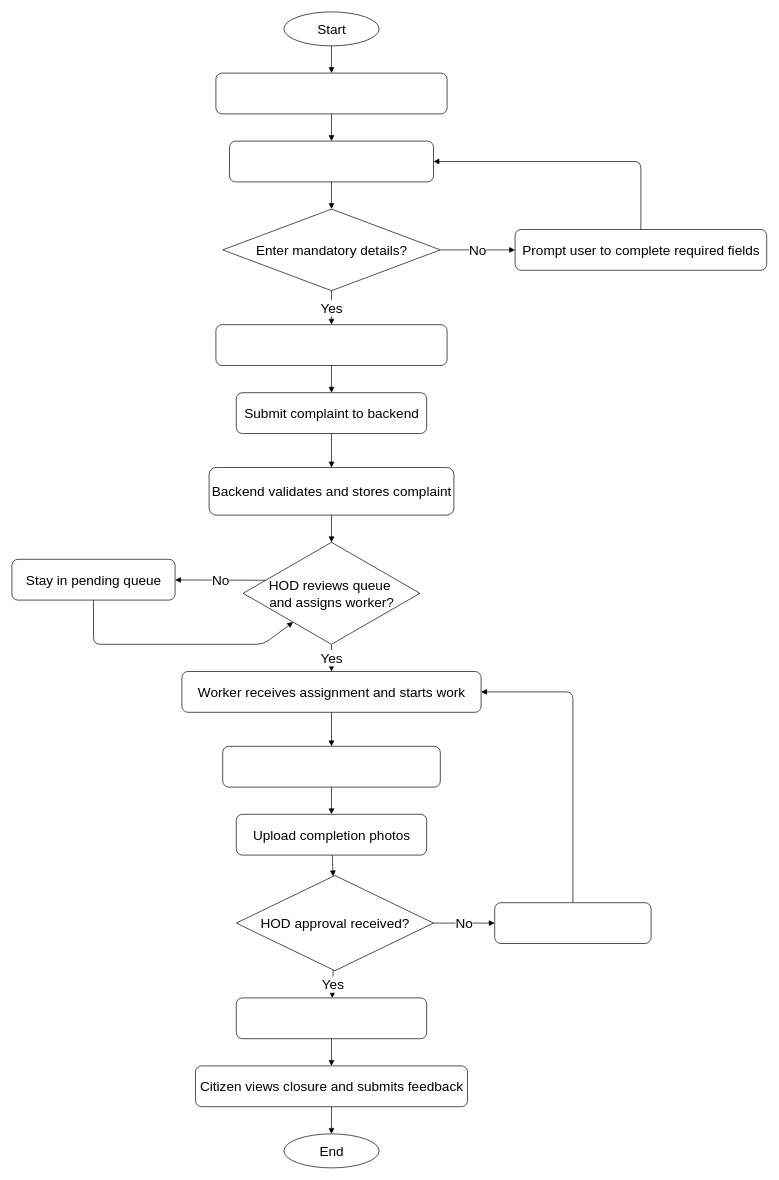
This 779x1180 diagram has some shape labels left out. Here are the shapes that lost their labels. From the top down, the centre of each, then its label:
the point at 331,93: User opens app and authenticates
the point at 331,161: Citizen chooses new complaint
the point at 331,345: Attach optional evidence and location
the point at 331,766: Update status / add field notes
the point at 572,923: Send for rework
the point at 331,1018: Mark complaint resolved
